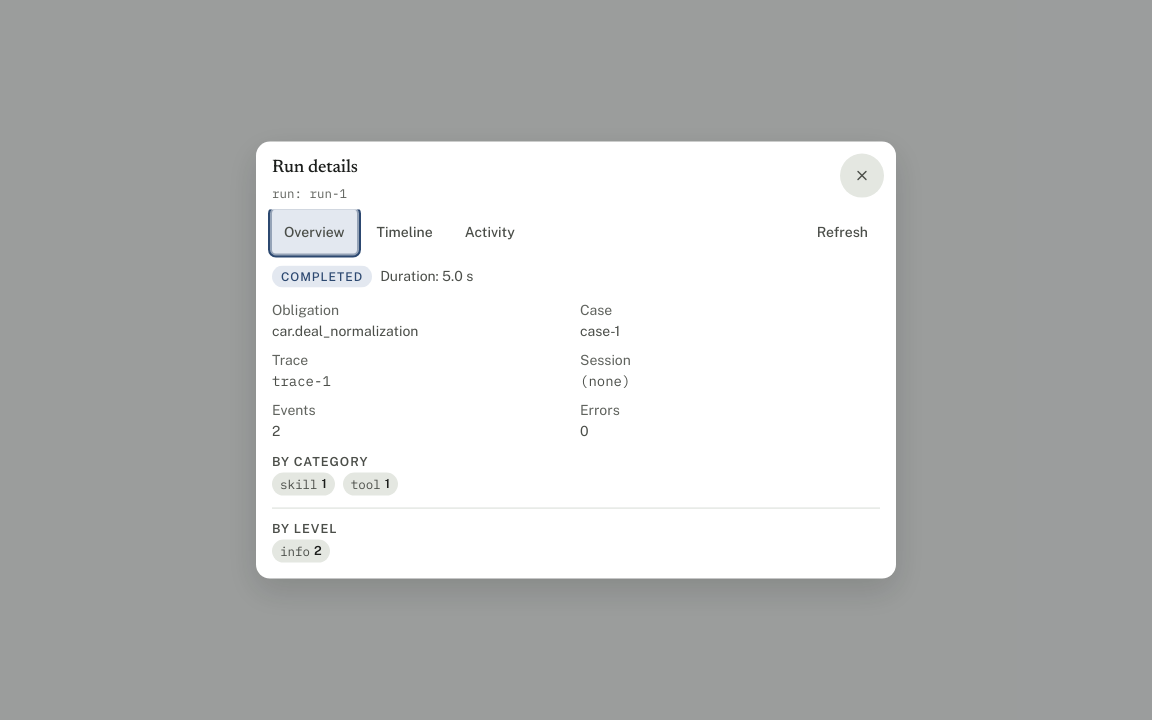
Scenario: RuntimeInspector › has no axe violations in the Overview and Timeline views
Expected: the element with test id "runtime-inspector-overview" is shown, [272,266,631,562]
Click the tab with test id "runtime-inspector-tab-timeline" at (405, 232), box [364,210,445,254]
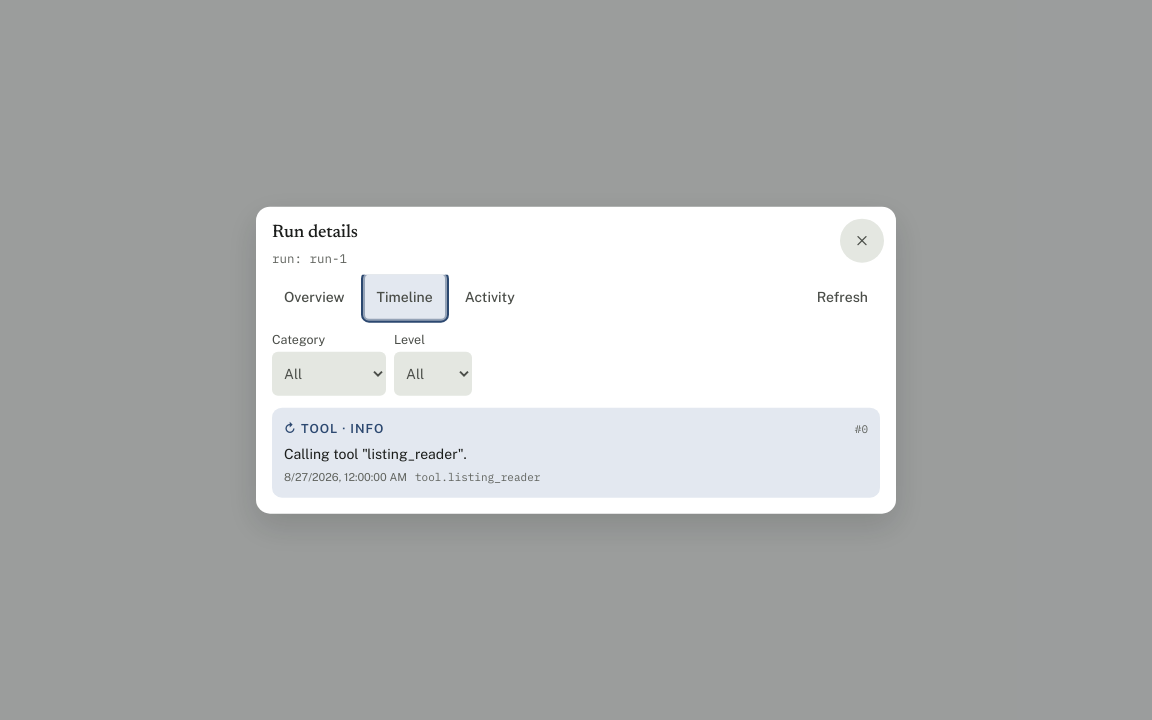
Result: the element with test id "runtime-inspector-timeline" is shown at [272,331,880,497]
